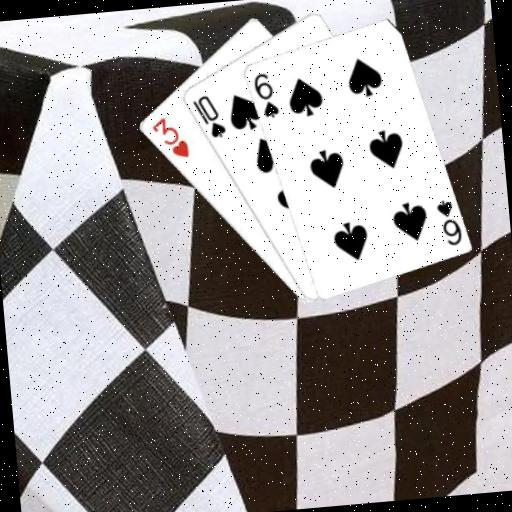10S: (188, 91, 228, 142)
3H: (148, 112, 192, 162)
6S: (249, 69, 281, 121), (432, 195, 463, 248)
